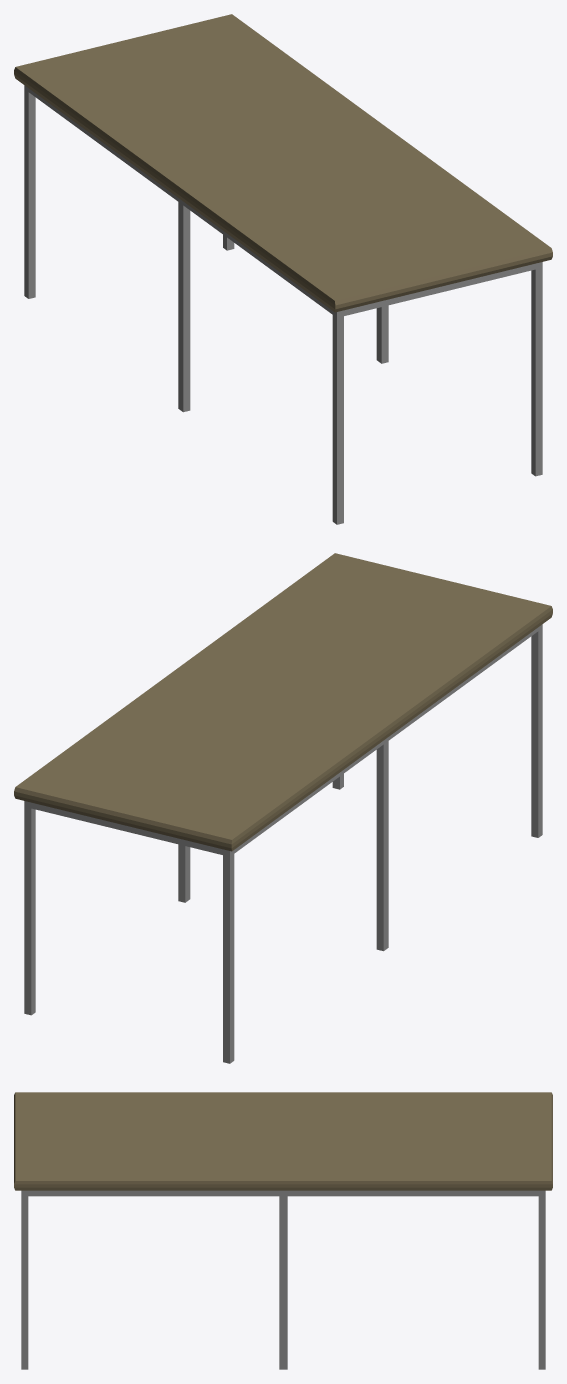
The model's file is bureauTable.fbx.
3 views of the same model, one above another, from view 1: azimuth 30°, elevation 25°; view 2: azimuth 150°, elevation 25°; view 3: azimuth 270°, elevation 25° (orthographic). The views are drawn at different scales.
Parts seen in each view (by area): view 1: Cube; view 2: Cube; view 3: Cube.
Part boxes in pixels (<box>): Cube: <box>14,14,552,524</box>; Cube: <box>14,553,552,1063</box>; Cube: <box>14,1092,552,1369</box>.
Bounding box in the file's own units: 0.9 × 0.9 × 2.3.
